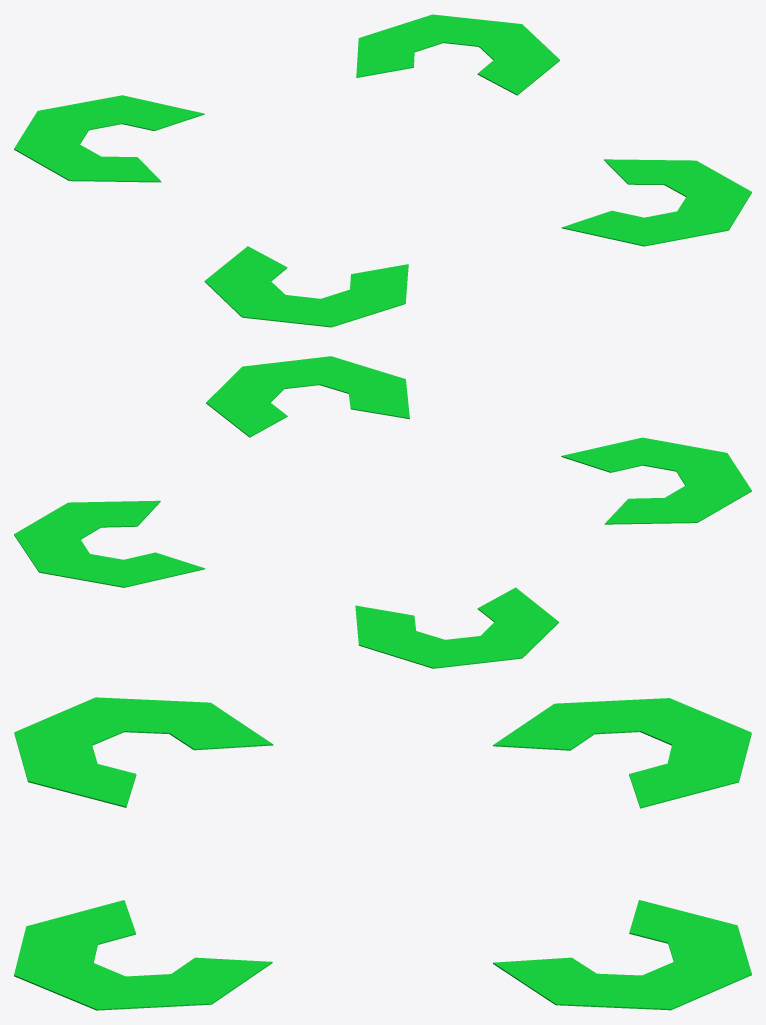
The model's file is zonaPuzzle.fbx.
3 renders of one model, top to bottom at view 1: azimuth 30°, elevation 25°; view 2: azimuth 150°, elevation 25°; view 3: azimuth 270°, elevation 25°, orthographic. The views are drawn at different scales.
Parts seen in each view (by area): view 1: Curve.030, Curve.022, Curve.021, Curve.016, Curve.008, Curve.007, Curve.031, Curve.023, Curve.014, Curve.010, Curve.009, Curve.029 (+8 smaller); view 2: Curve.009, Curve.008, Curve.029, Curve.023, Curve.028, Curve.017, Curve.022, Curve.016, Curve.015, Curve.030, Curve.010, Curve.014 (+8 smaller); view 3: Curve.015, Curve.023, Curve.016, Curve.024, Curve.007, Curve.029, Curve.009, Curve.030, Curve.028, Curve.008, Curve.010, Curve.014 (+8 smaller).
Part boxes in pixels (<box>): Curve.030: <box>242,295,331,327</box>; Curve.022: <box>644,211,728,246</box>; Curve.021: <box>561,210,644,246</box>; Curve.016: <box>433,14,521,46</box>; Curve.008: <box>38,95,122,130</box>; Curve.007: <box>122,95,204,130</box>; Curve.031: <box>321,289,405,327</box>; Curve.023: <box>677,192,751,229</box>; Curve.014: <box>477,59,559,95</box>; Curve.010: <box>14,144,100,180</box>; Curve.009: <box>14,111,88,148</box>; Curve.029: <box>204,281,285,316</box>; Curve.009: <box>433,636,522,668</box>; Curve.008: <box>359,631,444,668</box>; Curve.029: <box>665,485,751,522</box>; Curve.023: <box>243,356,330,388</box>; Curve.028: <box>604,498,697,524</box>; Curve.017: <box>39,554,124,587</box>; Curve.022: <box>319,356,405,393</box>; Curve.016: <box>14,534,89,571</box>; Curve.015: <box>14,503,101,539</box>; Curve.030: <box>676,453,751,490</box>; Curve.010: <box>481,621,558,657</box>; Curve.014: <box>68,500,160,527</box>; Curve.015: <box>555,973,671,1010</box>; Curve.023: <box>14,963,125,1010</box>; Curve.016: <box>642,961,751,1009</box>; Curve.024: <box>96,974,211,1010</box>; Curve.007: <box>629,763,738,808</box>; Curve.029: <box>96,697,210,733</box>; Curve.009: <box>640,698,751,745</box>; Curve.030: <box>15,697,124,745</box>; Curve.028: <box>169,703,273,750</box>; Curve.008: <box>667,732,751,781</box>; Curve.010: <box>555,698,669,734</box>; Curve.014: <box>493,957,596,1004</box>.
Bounding box in the file's own units: 14864 × 27.77 × 14860.
